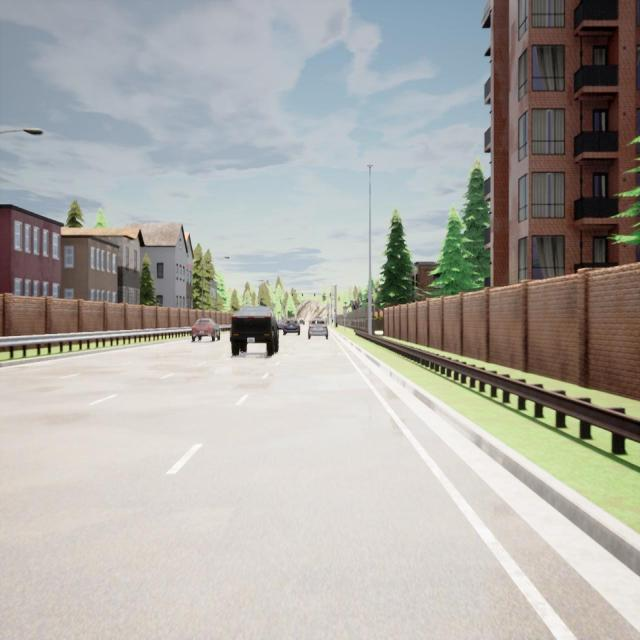Traffic_Signs: (343, 310, 347, 316)
Vehicle: (229, 305, 279, 358), (191, 318, 220, 342), (308, 319, 329, 340), (282, 319, 300, 336), (299, 318, 305, 325)
traffic_light: (291, 293, 293, 297), (314, 293, 316, 297), (334, 308, 336, 312), (302, 293, 303, 297)
